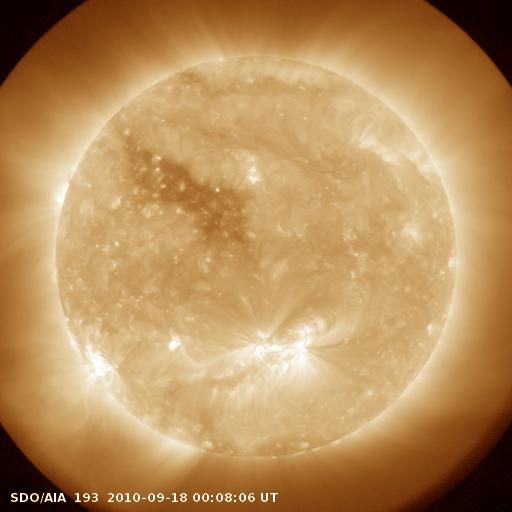coronal_hole: (128, 139, 253, 246)
